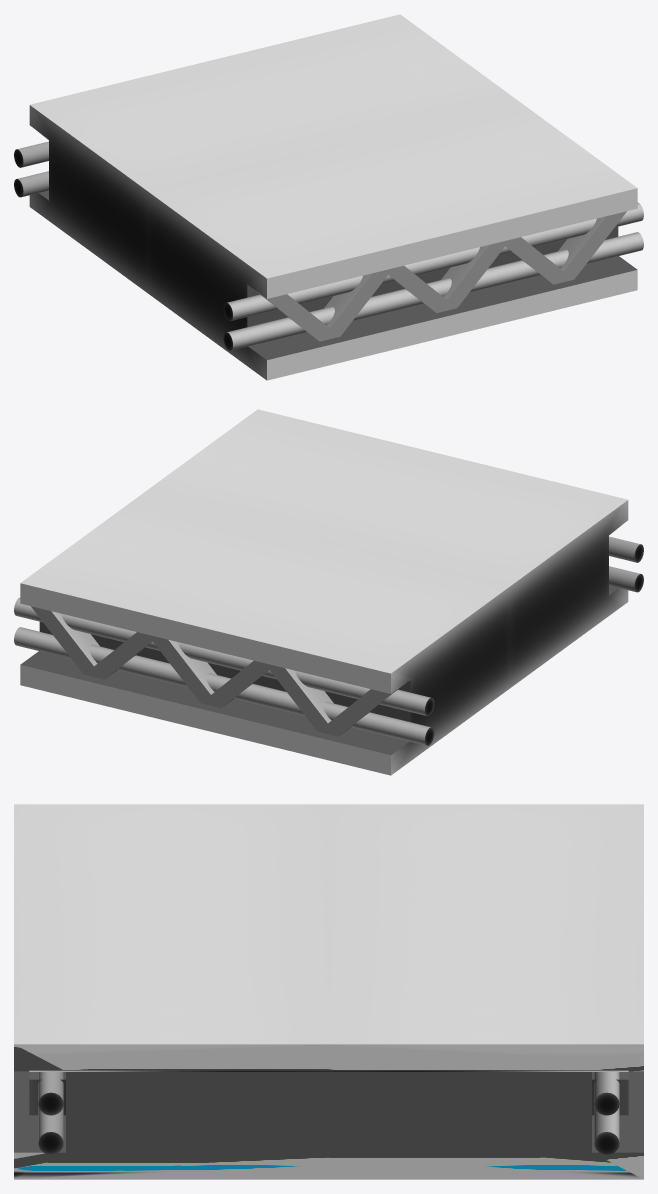
The model's file is Floor9_B.fbx.
3 views of the same model, one above another, from view 1: azimuth 30°, elevation 25°; view 2: azimuth 150°, elevation 25°; view 3: azimuth 270°, elevation 25° (orthographic). The views are drawn at different scales.
Parts seen in each view (by area): view 1: pCube1, pCube9, pCylinder1, pCylinder2; view 2: pCube1, pCube9, pCylinder1, pCylinder2; view 3: pCube1, pCube9, pCylinder2, pCylinder1.
Part boxes in pixels (box(x1,y1,x2,y2)): pCube1: box(29, 14, 637, 380); pCube9: box(36, 130, 626, 341); pCylinder1: box(14, 171, 643, 350); pCylinder2: box(14, 141, 643, 321); pCube1: box(20, 409, 628, 775); pCube9: box(31, 525, 621, 736); pCylinder1: box(14, 566, 643, 745); pCylinder2: box(14, 536, 643, 716); pCube1: box(14, 804, 643, 1179); pCube9: box(29, 1070, 628, 1115); pCylinder2: box(38, 1072, 619, 1115); pCylinder1: box(38, 1105, 619, 1154).
Size of the model in its own units: 13.18 by 3.13 by 13.2.
